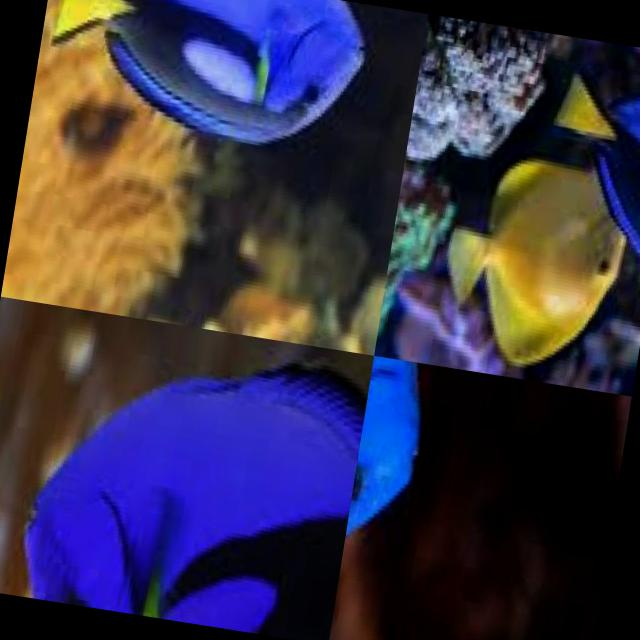BlueTang: (13, 327, 370, 640), (30, 0, 377, 156), (553, 41, 640, 268), (344, 356, 428, 542)
YellowTang: (432, 147, 634, 376)
